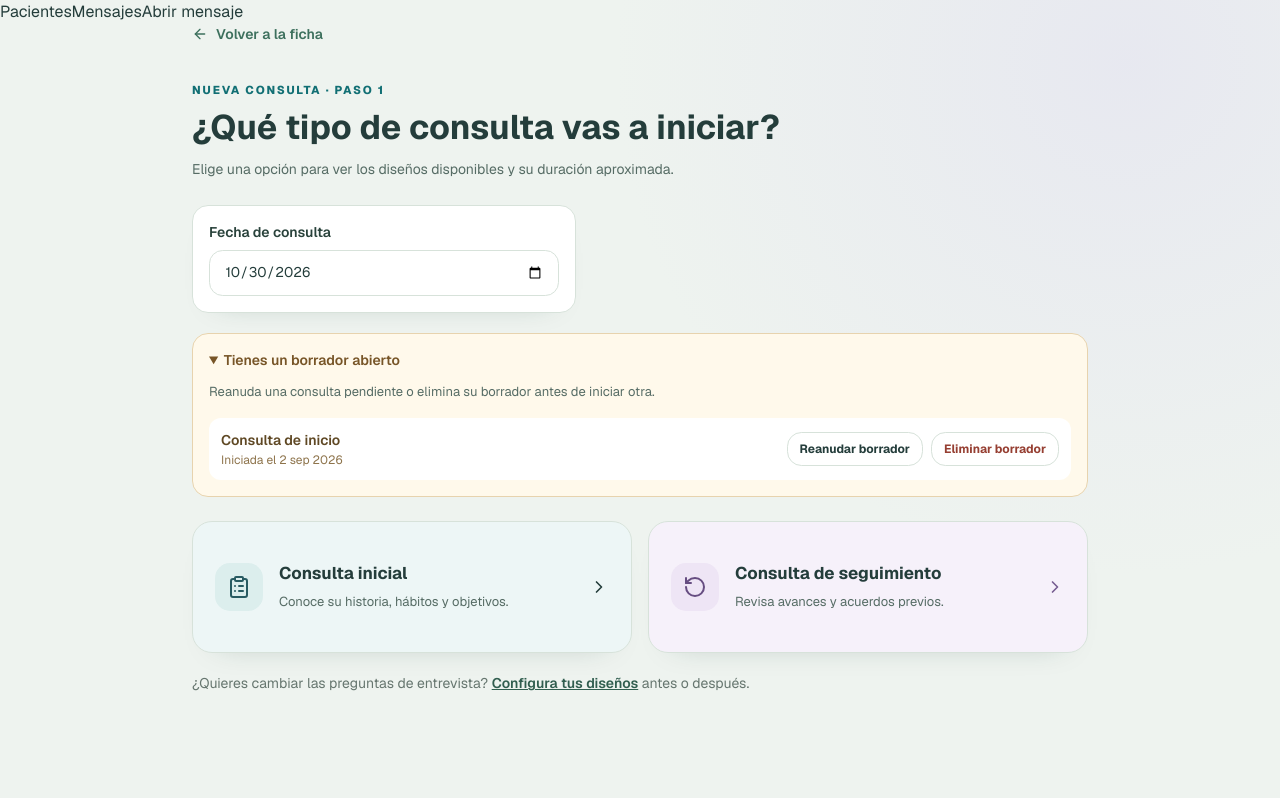
Test: consultation save and review workflow › requires resolving an existing draft before starting another consultation type
This screenshot has width=1280, height=798.
Expected: the heading "¿Qué tipo de consulta vas a iniciar?" is shown, [192,105,780,149]
Expected: the heading "Tienes un borrador abierto" is shown, [224,351,400,369]
Click the button "Consulta de seguimiento Revisa avances y acuerdos previos." at (868, 587), box [648,521,1088,653]
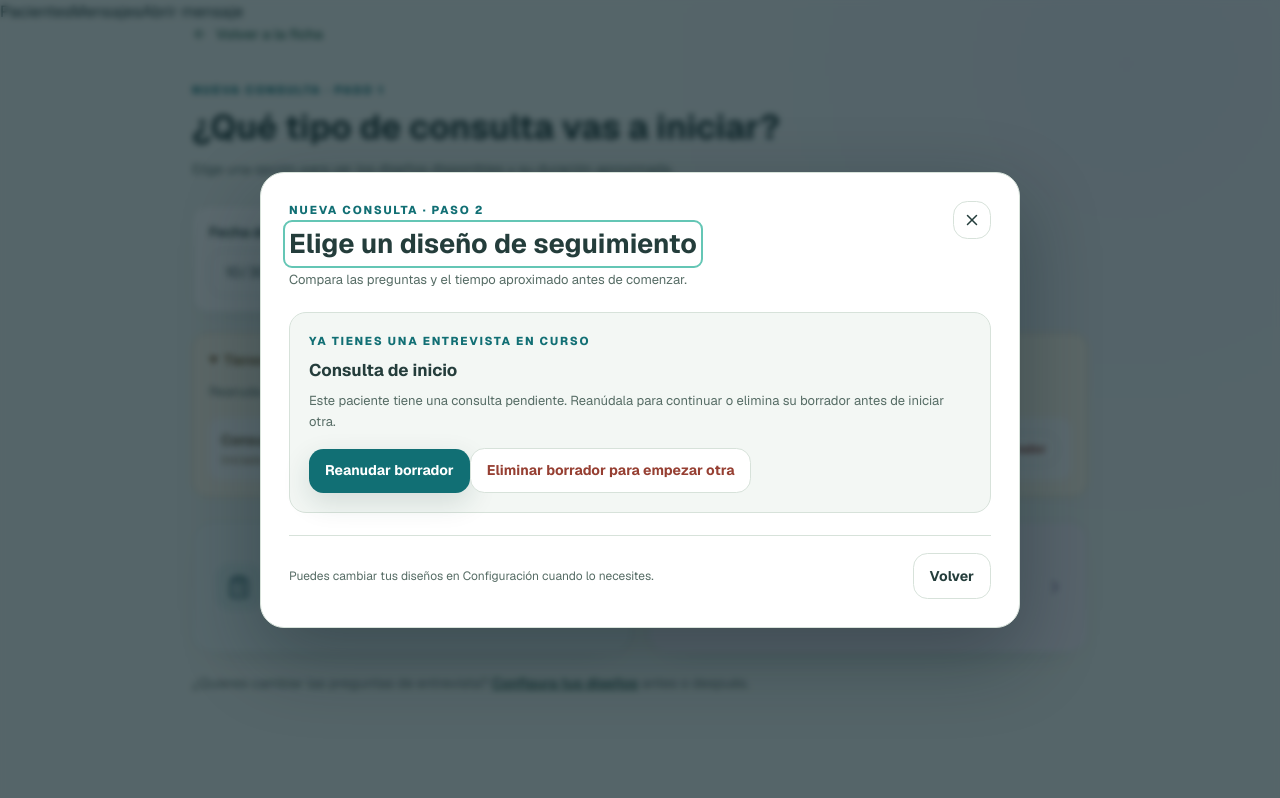
Expected: the dialog "Elige un diseño de seguimiento" is shown, [260,172,1020,628]
Click the button "Eliminar borrador para empezar otra" at (611, 471), box [470,448,752,493]
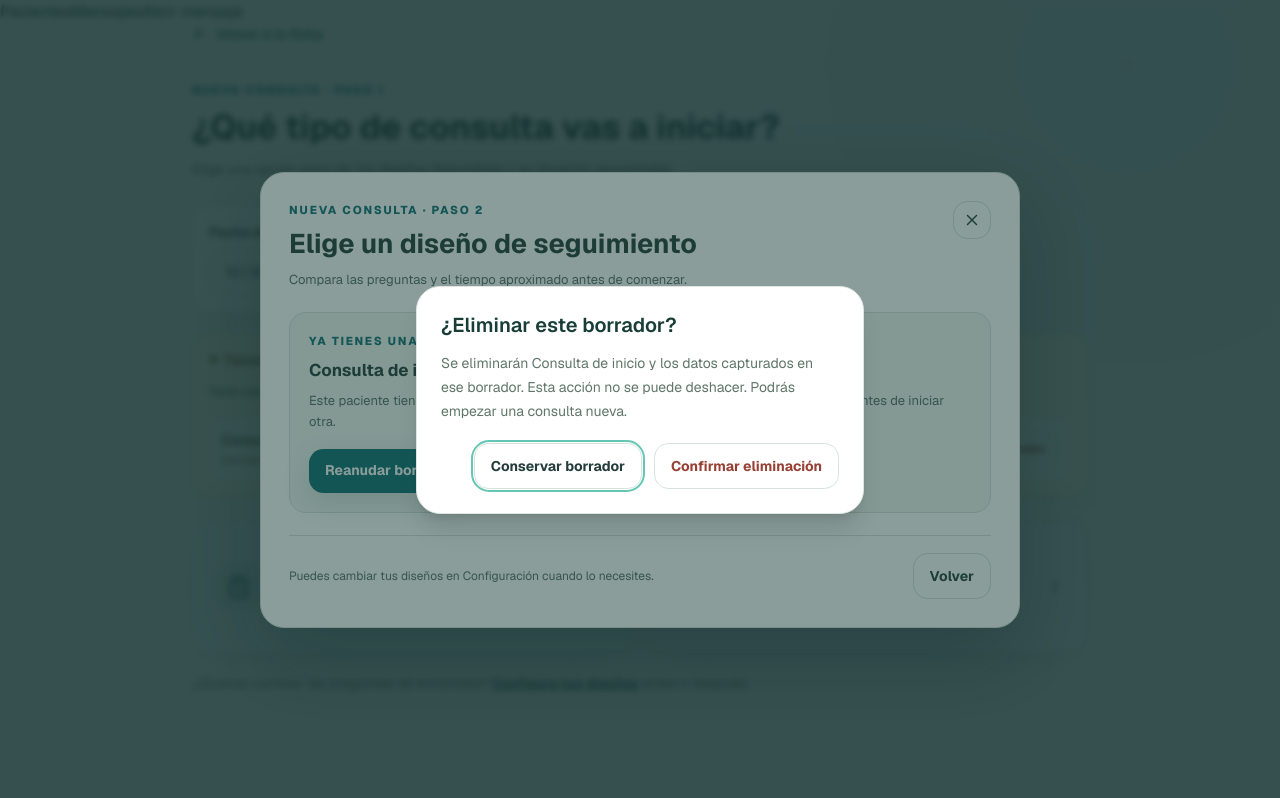
Click the button "Confirmar eliminación" at (746, 466), box [654,443,839,489]
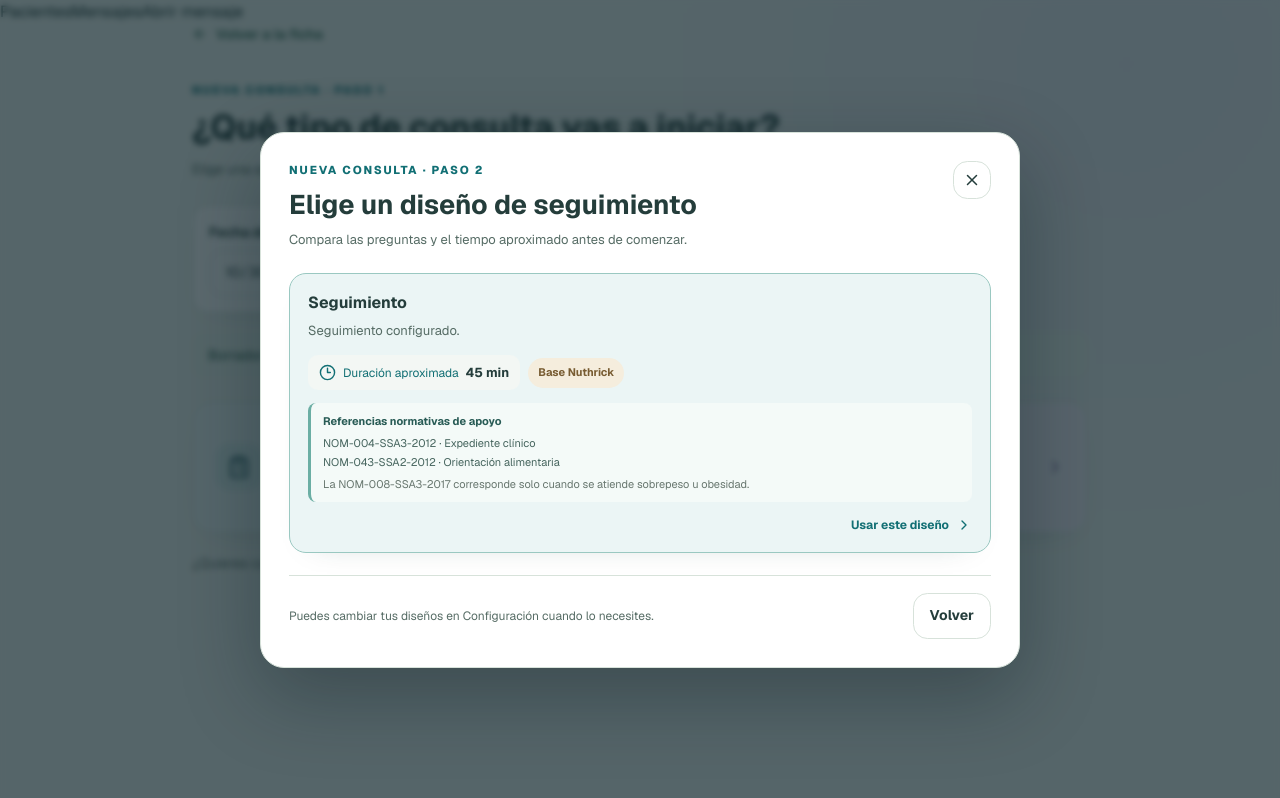
Click the button that starts with "Seguimiento" at (640, 413), box [289,273,991,553]
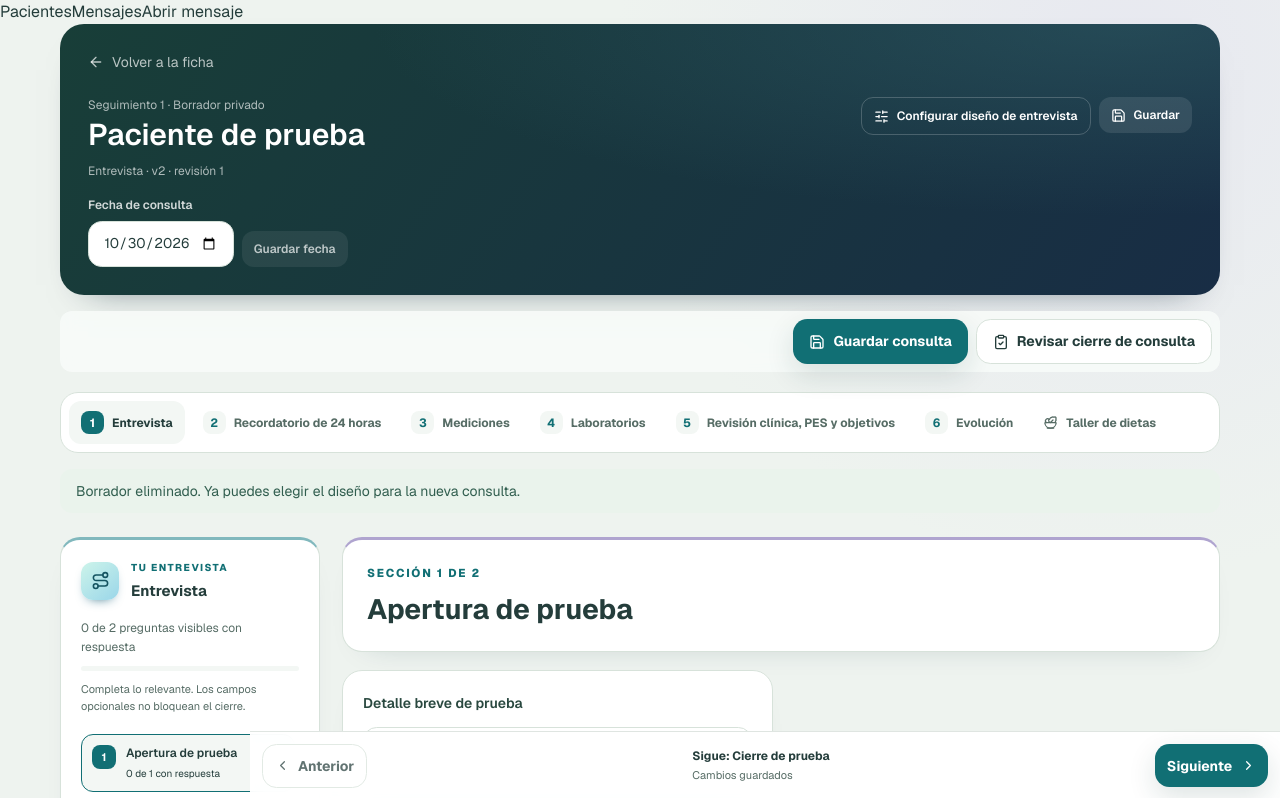
Expected: the heading "Apertura de prueba" is shown, [367,590,633,626]
